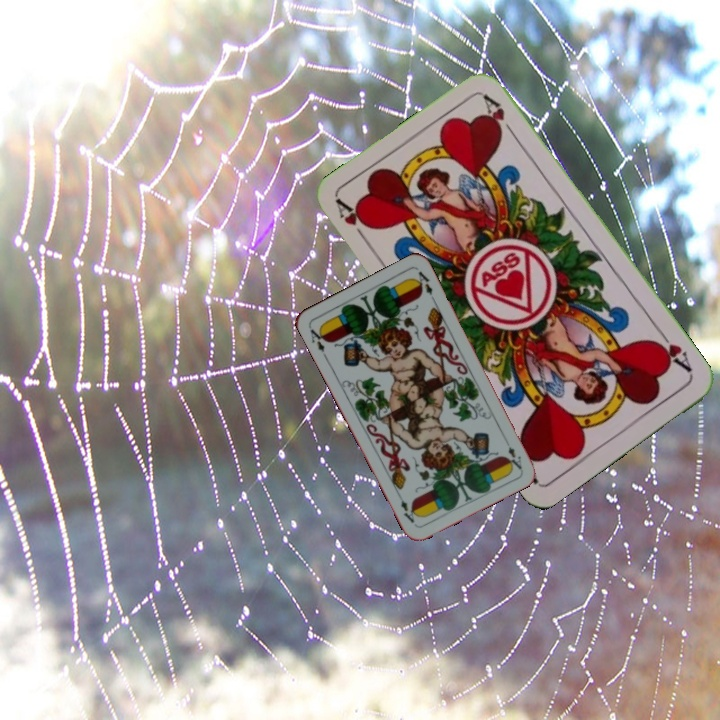EA: (305, 323, 330, 361), (504, 442, 524, 472)
HA: (648, 326, 695, 375), (332, 196, 374, 249)
